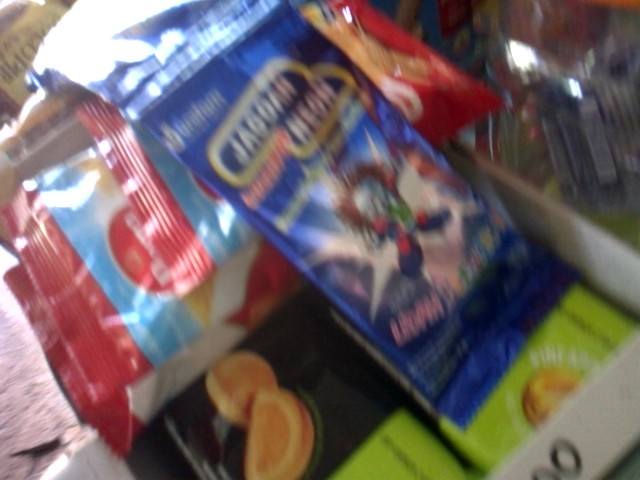jagoan neon: (118, 1, 581, 426)
